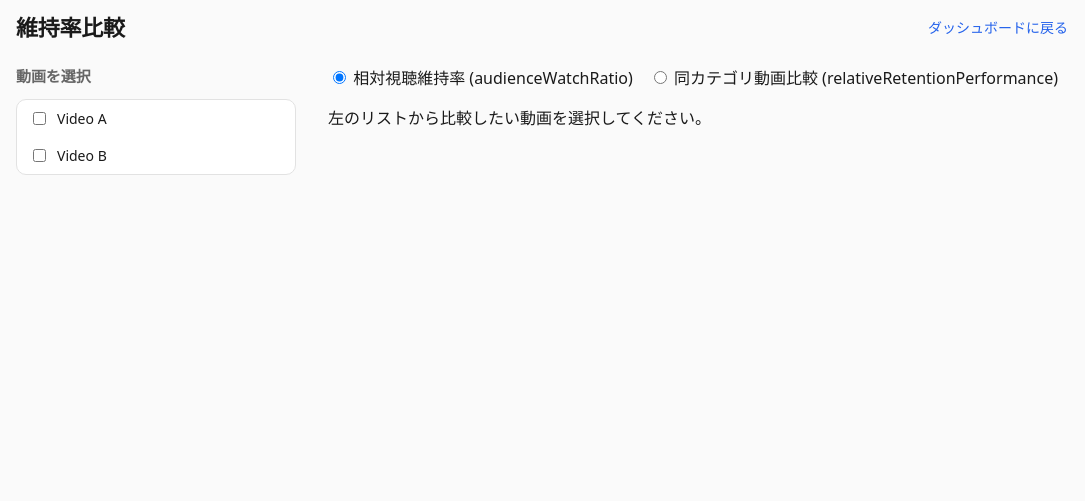
Test: RetentionPage › fetches and renders the comparison once a video is selected
Check: the text "Video A" is shown, box [57, 108, 107, 128]
Click the checkbox labelled "Video A". click: [40, 118]
box: [33, 112, 46, 124]
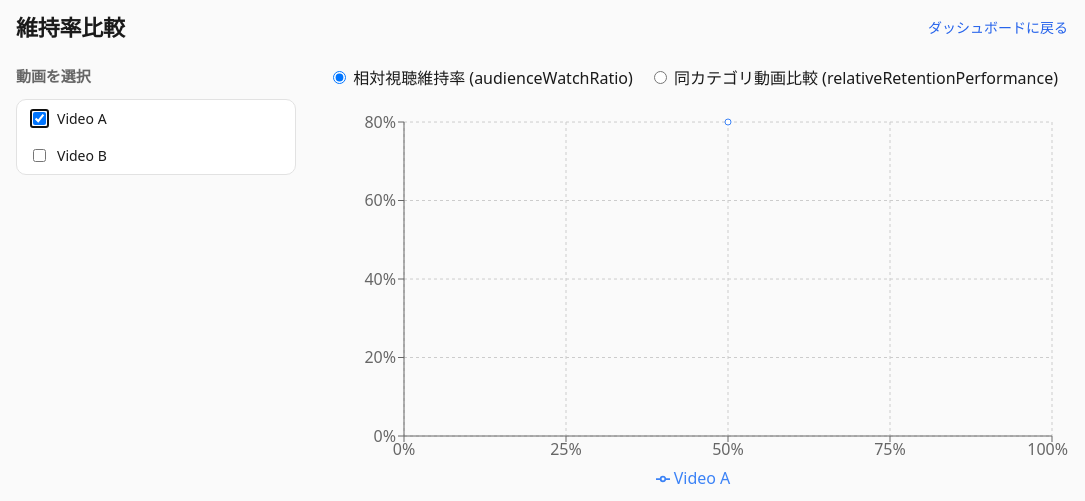
Check: the text "左のリストから比較したい動画を選択してください。" is gone
